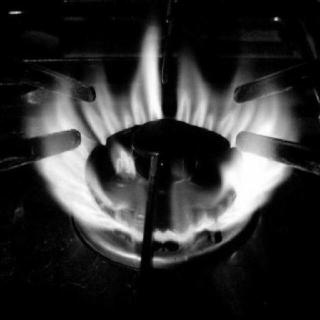Fire: (12, 27, 310, 247)
